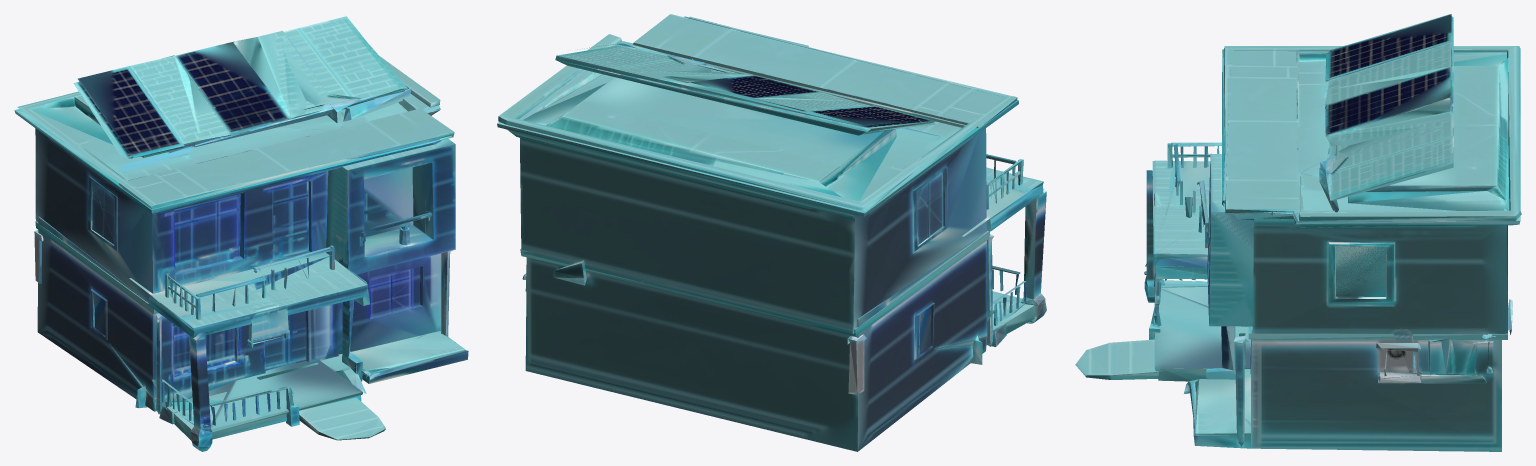
File: house.glb
3 views of the same model, side by side, from view 1: azimuth 30°, elevation 25°; view 2: azimuth 150°, elevation 25°; view 3: azimuth 270°, elevation 25° (orthographic). The views are drawn at different scales.
Visible parts, largest first — view 1: world; view 2: world; view 3: world.
Part boxes in pixels (box(x1,y1,x2,y2)): world: box(14, 16, 468, 451); world: box(497, 14, 1046, 451); world: box(1075, 14, 1521, 451).
Bounding box in the file's own units: 1.3 × 1.02 × 1.41.
Materials: 1 (1 with a texture image).
